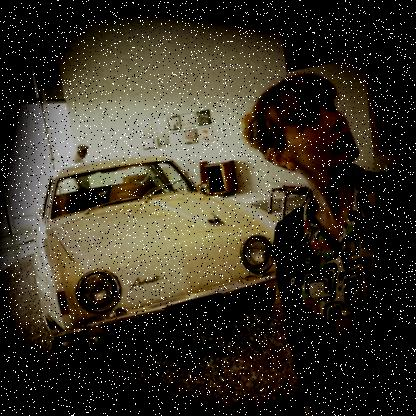Car: (16, 122, 318, 406)
